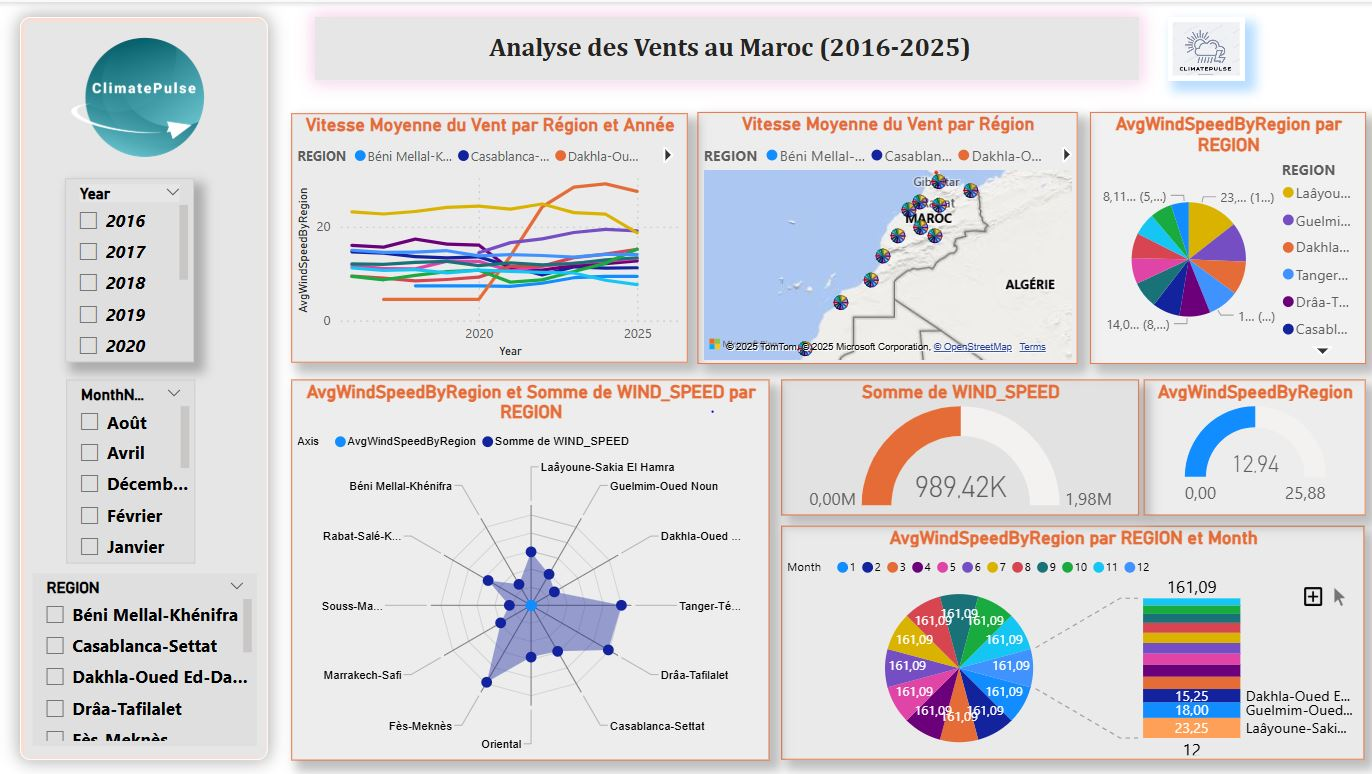

The page's visual inventory and layout, read from the dashboard file:
{"tool":"powerbi","page":{"name":"Vents","canvas":[1280,720],"ordinal":3},"visuals":[{"type":"shape","box":[18.1,14.2,230.8,691.1],"z":0},{"type":"shape","box":[292.7,14.2,767.1,59.3],"z":1000},{"type":"textbox","box":[292.7,21.9,777.4,42.5],"z":2000},{"type":"image","box":[29.7,14.2,208.9,149.6],"z":3000},{"type":"image","box":[1085.6,14.2,72.2,59.3],"z":4000},{"type":"slicer","fields":{"Values":["WEATHER_DATA.Year"]},"box":[60.6,163.7,119.9,171.5],"z":5000},{"type":"slicer","fields":{"Values":["WEATHER_DATA.MonthName"]},"box":[61.9,350.7,119.9,171.5],"z":6000},{"type":"slicer","fields":{"Values":["WEATHER_DATA.REGION"]},"box":[29.7,531.2,208.9,161.2],"z":7000},{"type":"lineChart","title":"Vitesse Moyenne du Vent par Région et Année","fields":{"Category":["WEATHER_DATA.Year"],"Y":["WEATHER_DATA.AvgWindSpeedByRegionSeason"],"Series":["WEATHER_DATA.REGION"]},"box":[270.8,103.1,368.7,232.1],"z":8000},{"type":"map","title":"Vitesse Moyenne du Vent par Région","fields":{"Y":["RegionCoordinates.AvgLatitude"],"X":["RegionCoordinates.AvgLongitude"],"Series":["WEATHER_DATA.REGION"],"Size":["WEATHER_DATA.AvgWindSpeedByRegionSeason"]},"box":[648.5,101.9,353.3,234.7],"z":9000},{"type":"pieChart","fields":{"Y":["WEATHER_DATA.AvgWindSpeedByRegionSeason"],"Category":["WEATHER_DATA.REGION"]},"box":[1013.4,101.9,256.6,234.7],"z":10000},{"type":"gauge","fields":{"Y":["Sum(WEATHER_DATA.WIND_SPEED)"]},"box":[727.2,350.7,332.6,126.4],"z":11000},{"type":"barOfPieChartEF91E48C78A2807BCA25C2765","fields":{"values":["WEATHER_DATA.AvgWindSpeedByRegionSeason"],"legend":["WEATHER_DATA.Month"],"category":["WEATHER_DATA.REGION"]},"box":[727.2,487.4,542.8,217.9],"z":12000},{"type":"RadarChart1446119667547","fields":{"Y":["WEATHER_DATA.AvgWindSpeedByRegionSeason","Sum(WEATHER_DATA.WIND_SPEED)"],"Category":["WEATHER_DATA.REGION"]},"box":[270.8,350.7,444.8,354.6],"z":13000},{"type":"gauge","fields":{"Y":["WEATHER_DATA.AvgWindSpeedByRegionSeason"]},"box":[1063.7,350.7,206.3,126.4],"z":14000}]}

Visuals, with their boxes in screenshot pixels (x1, y1, x2, y2), scaled from the page's 1280x720 canvas onto the 1372x774 screenshot:
shape: [left=19, top=15, right=267, bottom=758]
shape: [left=314, top=15, right=1136, bottom=79]
textbox: [left=314, top=24, right=1147, bottom=69]
image: [left=32, top=15, right=256, bottom=176]
image: [left=1164, top=15, right=1241, bottom=79]
slicer - WEATHER_DATA.Year: [left=65, top=176, right=193, bottom=360]
slicer - WEATHER_DATA.MonthName: [left=66, top=377, right=195, bottom=561]
slicer - WEATHER_DATA.REGION: [left=32, top=571, right=256, bottom=744]
"Vitesse Moyenne du Vent par Région et Année" lineChart: [left=290, top=111, right=685, bottom=360]
"Vitesse Moyenne du Vent par Région" map: [left=695, top=110, right=1074, bottom=362]
pieChart - WEATHER_DATA.AvgWindSpeedByRegionSeason x WEATHER_DATA.REGION: [left=1086, top=110, right=1361, bottom=362]
gauge - Sum(WEATHER_DATA.WIND_SPEED): [left=779, top=377, right=1136, bottom=513]
barOfPieChartEF91E48C78A2807BCA25C2765 - WEATHER_DATA.AvgWindSpeedByRegionSeason x WEATHER_DATA.Month: [left=779, top=524, right=1361, bottom=758]
RadarChart1446119667547 - WEATHER_DATA.AvgWindSpeedByRegionSeason x Sum(WEATHER_DATA.WIND_SPEED): [left=290, top=377, right=767, bottom=758]
gauge - WEATHER_DATA.AvgWindSpeedByRegionSeason: [left=1140, top=377, right=1361, bottom=513]
